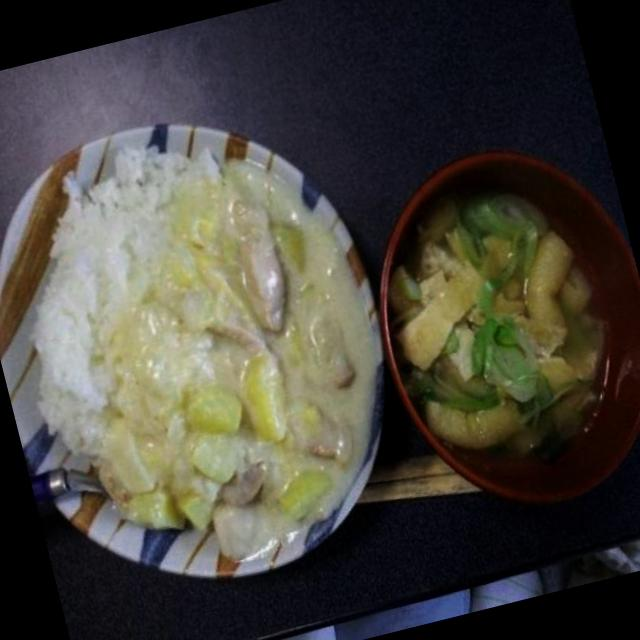Rice: (0, 150, 177, 353)
